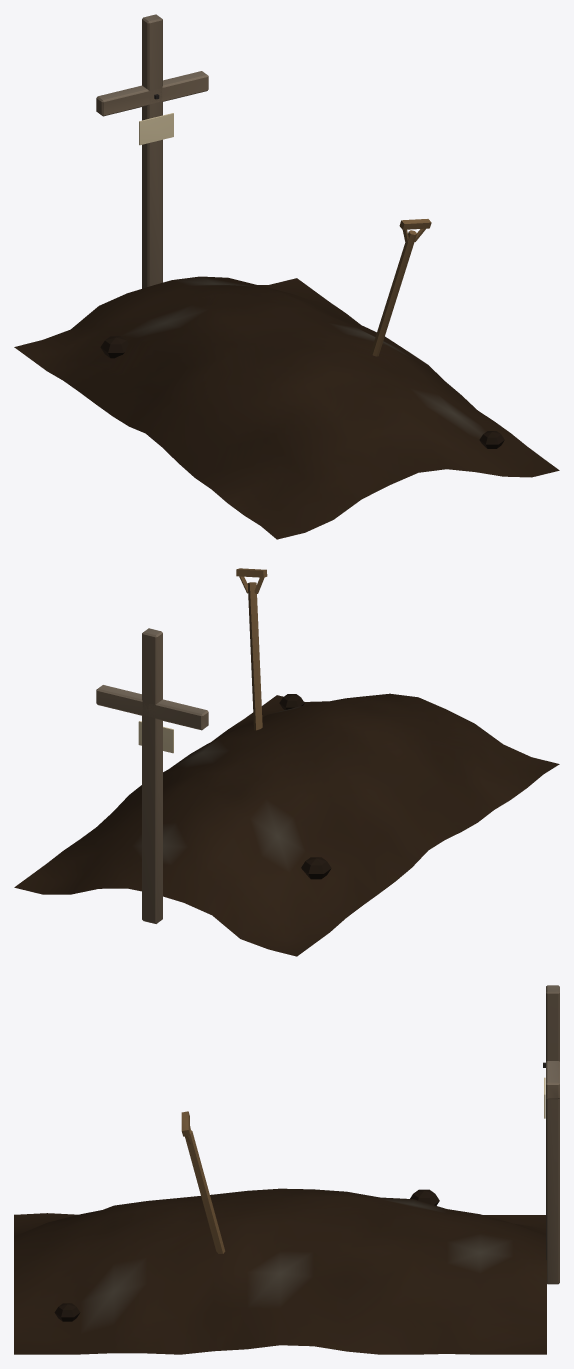
The model's file is grave-mound.glb.
3 renders of one model, top to bottom at view 1: azimuth 30°, elevation 25°; view 2: azimuth 150°, elevation 25°; view 3: azimuth 270°, elevation 25°, orthographic.
Parts seen in each view (by area): view 1: grave-mound-earth, grave-mound-wood, grave-mound-paper; view 2: grave-mound-earth, grave-mound-wood; view 3: grave-mound-earth, grave-mound-wood.
Boxes of the visible parts, x1,y1,x2,y2 form: grave-mound-earth: (14, 276, 559, 539); grave-mound-wood: (96, 14, 431, 356); grave-mound-paper: (139, 113, 173, 145); grave-mound-earth: (14, 693, 559, 956); grave-mound-wood: (96, 568, 267, 923); grave-mound-earth: (14, 1188, 546, 1354); grave-mound-wood: (181, 985, 559, 1284).
Size of the model in its own units: 1.64 by 1.77 by 2.71.
